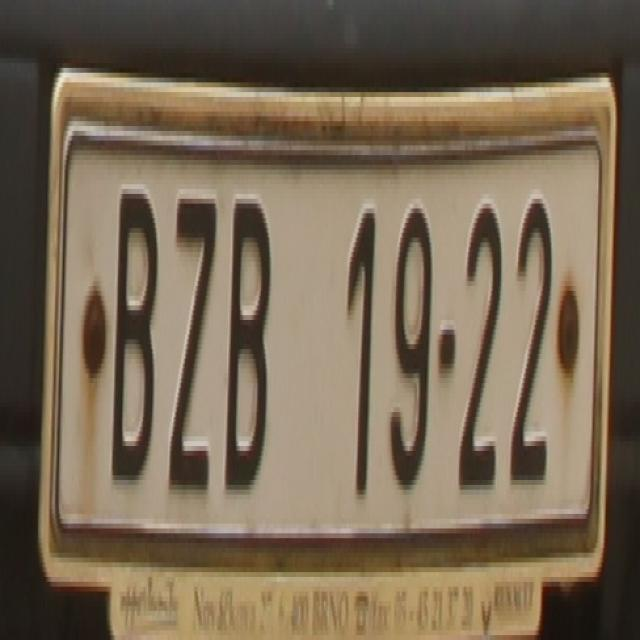1: (342, 203, 371, 500)
2: (458, 189, 503, 504), (506, 198, 552, 500)
9: (386, 194, 432, 480)
B: (222, 184, 276, 480), (108, 185, 158, 490)
Z: (164, 190, 216, 494)
